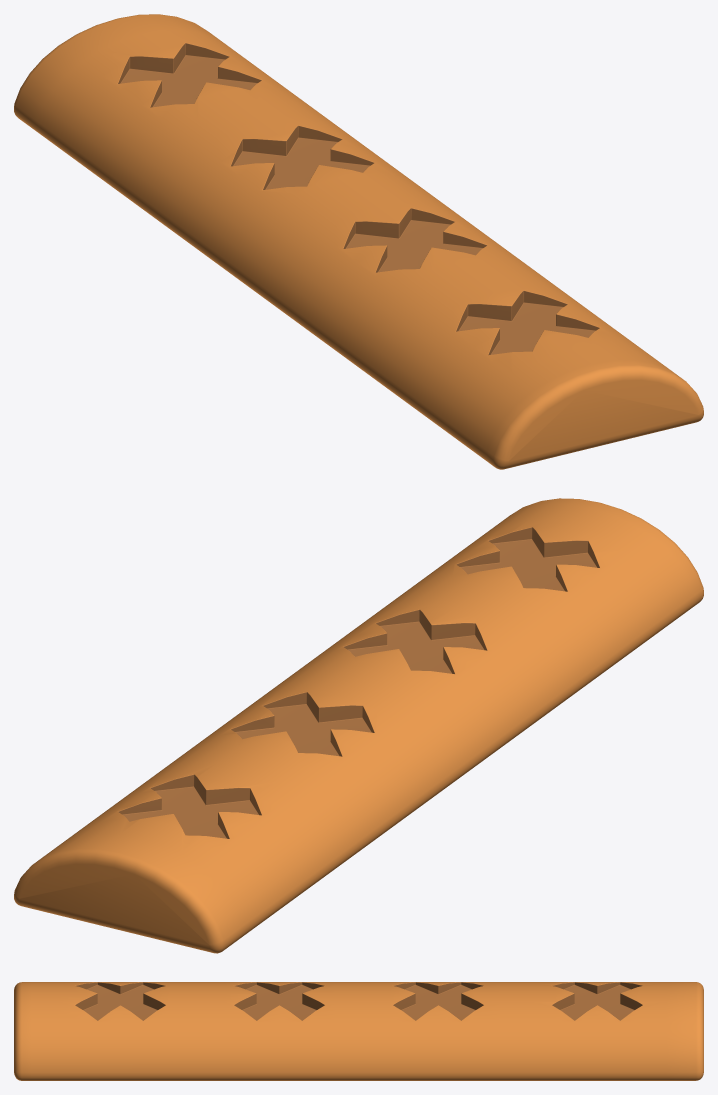
Rendered from YUT_.fbx.
The picture shows the model from 3 angles, top to bottom: view 1: azimuth 30°, elevation 25°; view 2: azimuth 150°, elevation 25°; view 3: azimuth 270°, elevation 25°; orthographic projection. The views are drawn at different scales.
Visible parts, largest first — view 1: Circle; view 2: Circle; view 3: Circle.
Boxes of the visible parts, x1,y1,x2,y2 form: Circle: (14,14,703,469); Circle: (14,498,703,953); Circle: (14,982,703,1080).
Size of the model in its own units: 197 by 68.8 by 799.
